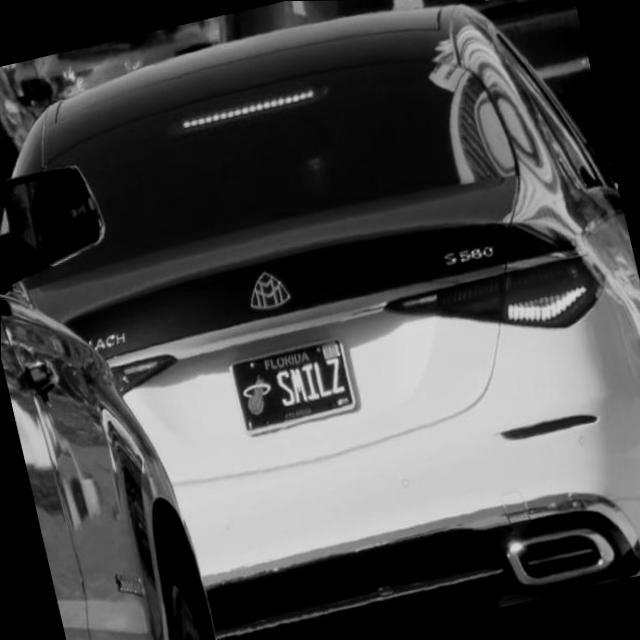LicensePlate: (224, 334, 355, 435)
